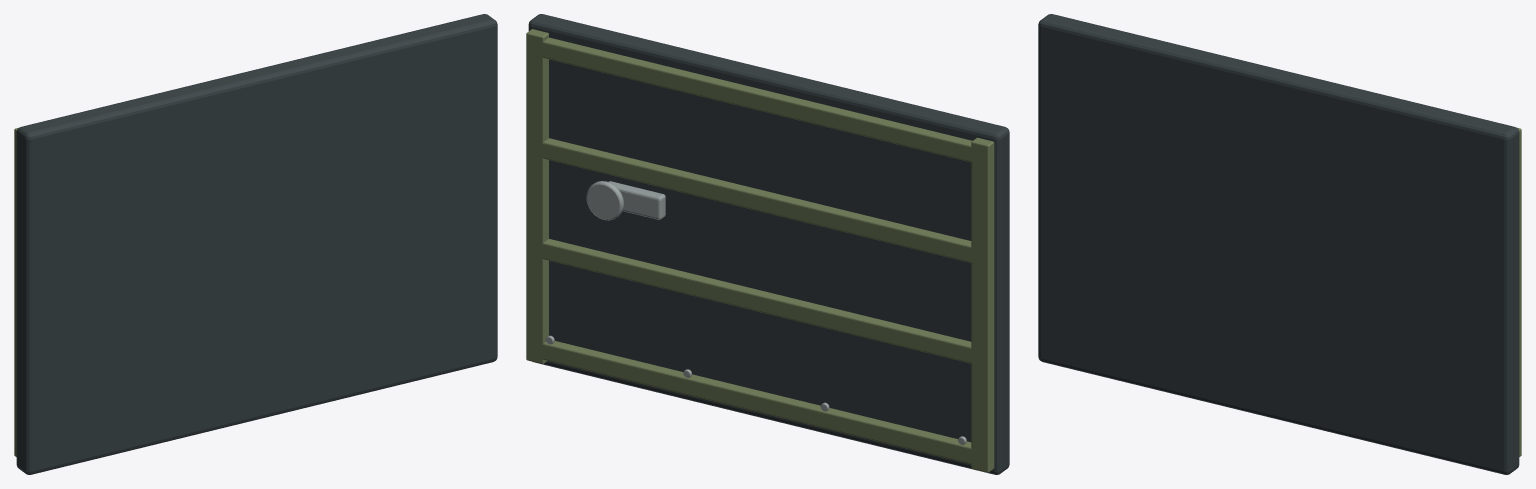
Rendered from blast_door.glb.
3 renders of one model, left to right at view 1: azimuth 30°, elevation 25°; view 2: azimuth 150°, elevation 25°; view 3: azimuth 330°, elevation 25°, orthographic.
Visible parts, largest first — view 1: blast_door; view 2: blast_door; view 3: blast_door.
Boxes of the visible parts, left/top/right/bottom form: blast_door: left=14, top=14, right=497, bottom=474; blast_door: left=526, top=14, right=1009, bottom=474; blast_door: left=1038, top=14, right=1521, bottom=474.
Bounding box in the file's own units: 3.44 × 2.38 × 0.3325.
